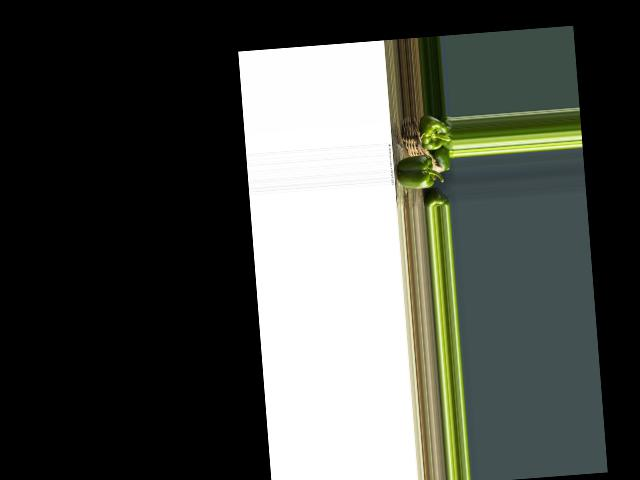bell_pepper: (427, 193, 449, 208)
